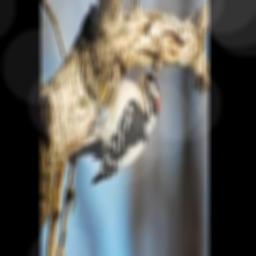Woodpecker: (75, 63, 159, 185)
